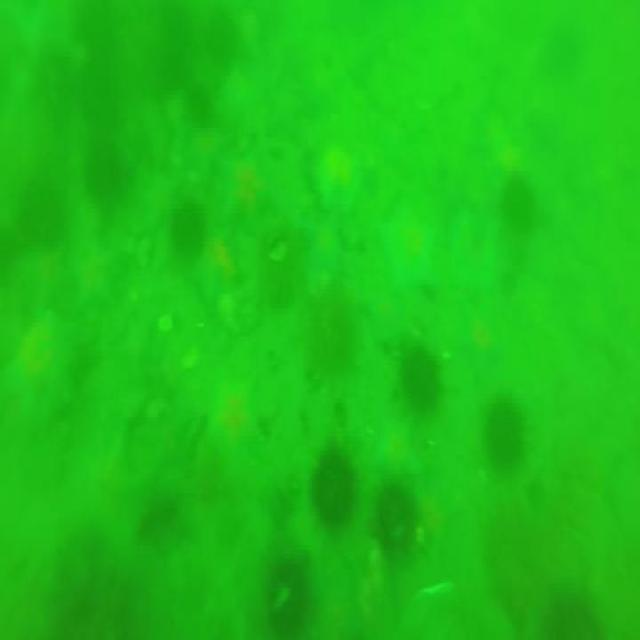echinus: (314, 438, 359, 520), (264, 553, 314, 623), (376, 488, 419, 561), (75, 51, 120, 120), (486, 401, 528, 474), (16, 172, 62, 235), (89, 139, 139, 194), (171, 194, 209, 264), (396, 343, 434, 411), (506, 172, 538, 247), (31, 54, 67, 110)
scallop: (159, 313, 175, 333)
starfish: (366, 207, 438, 305), (206, 371, 262, 490), (303, 218, 346, 318)
